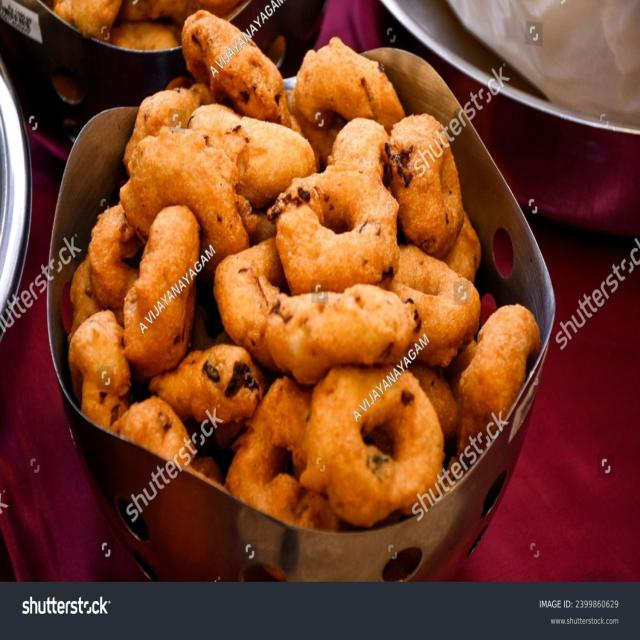medu vadai: (51, 2, 549, 519)
